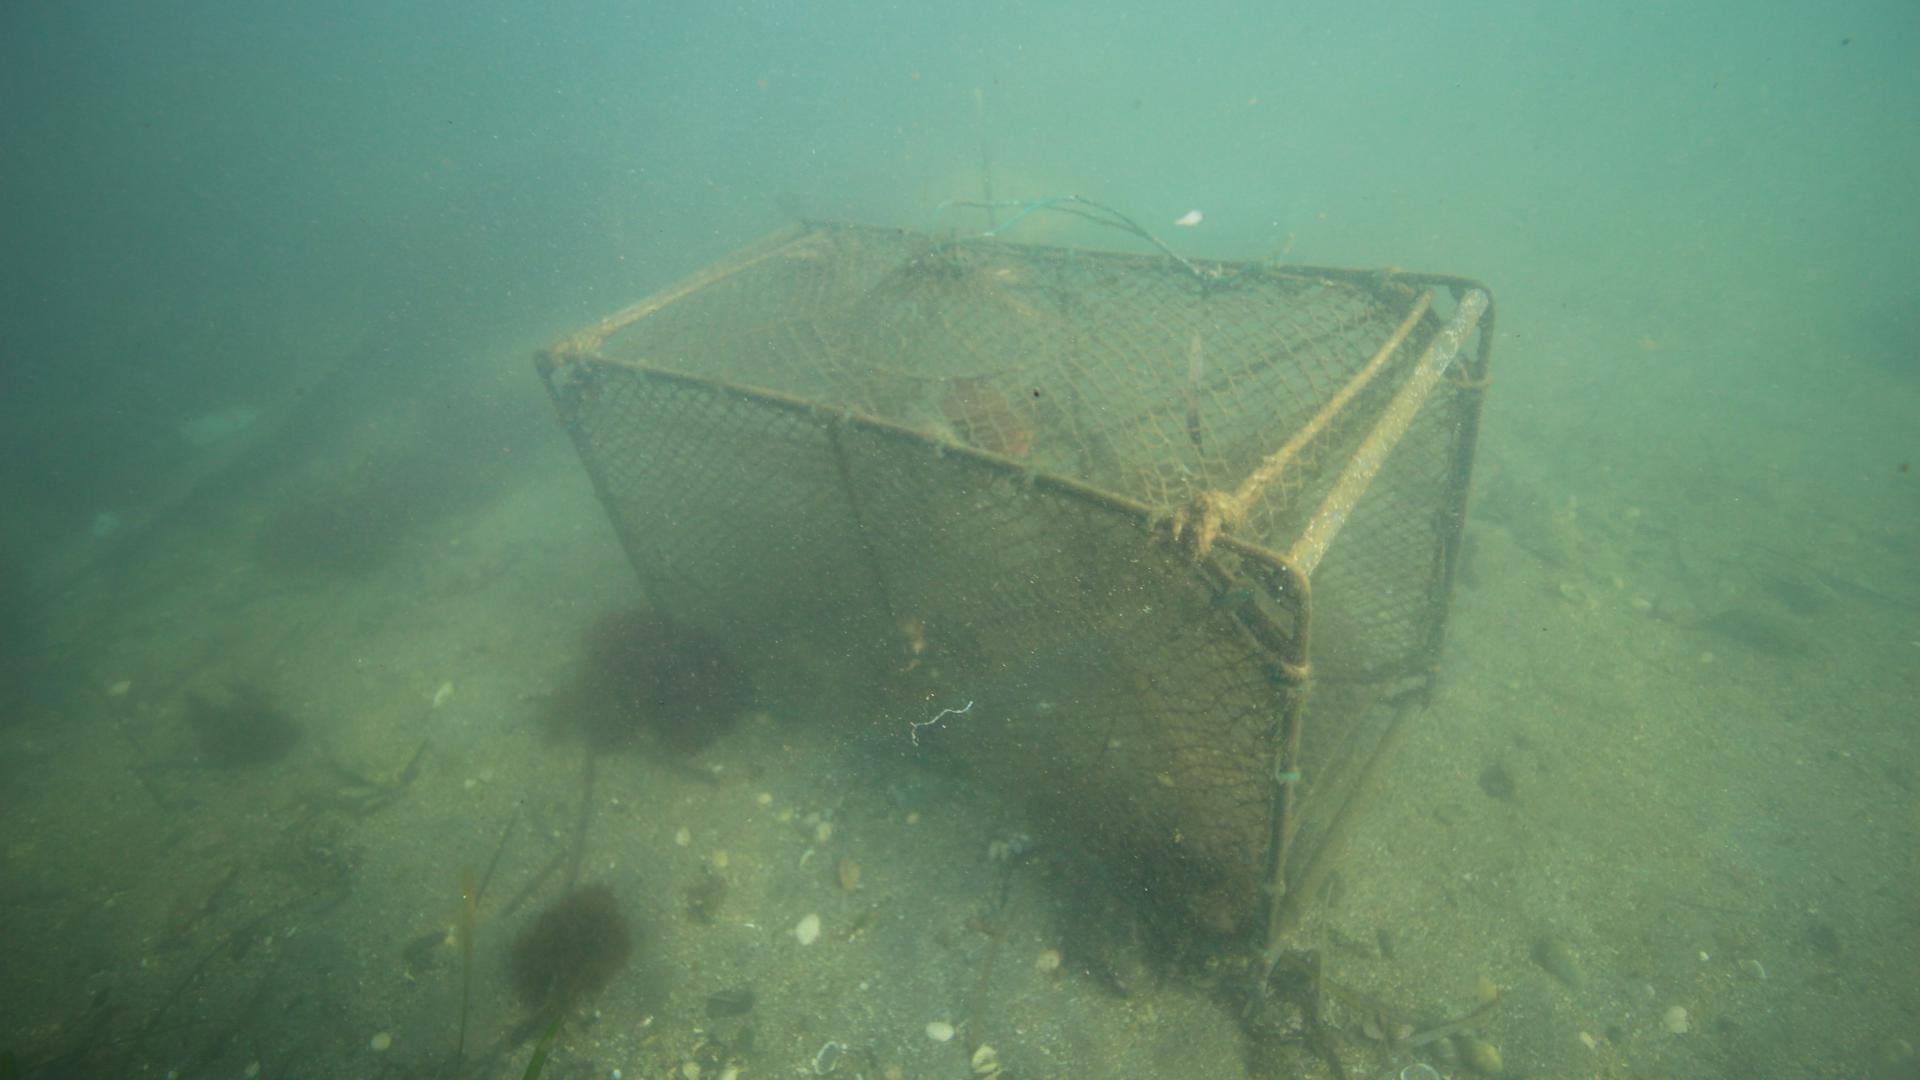rectangular fish trap: (541, 214, 1497, 948)
